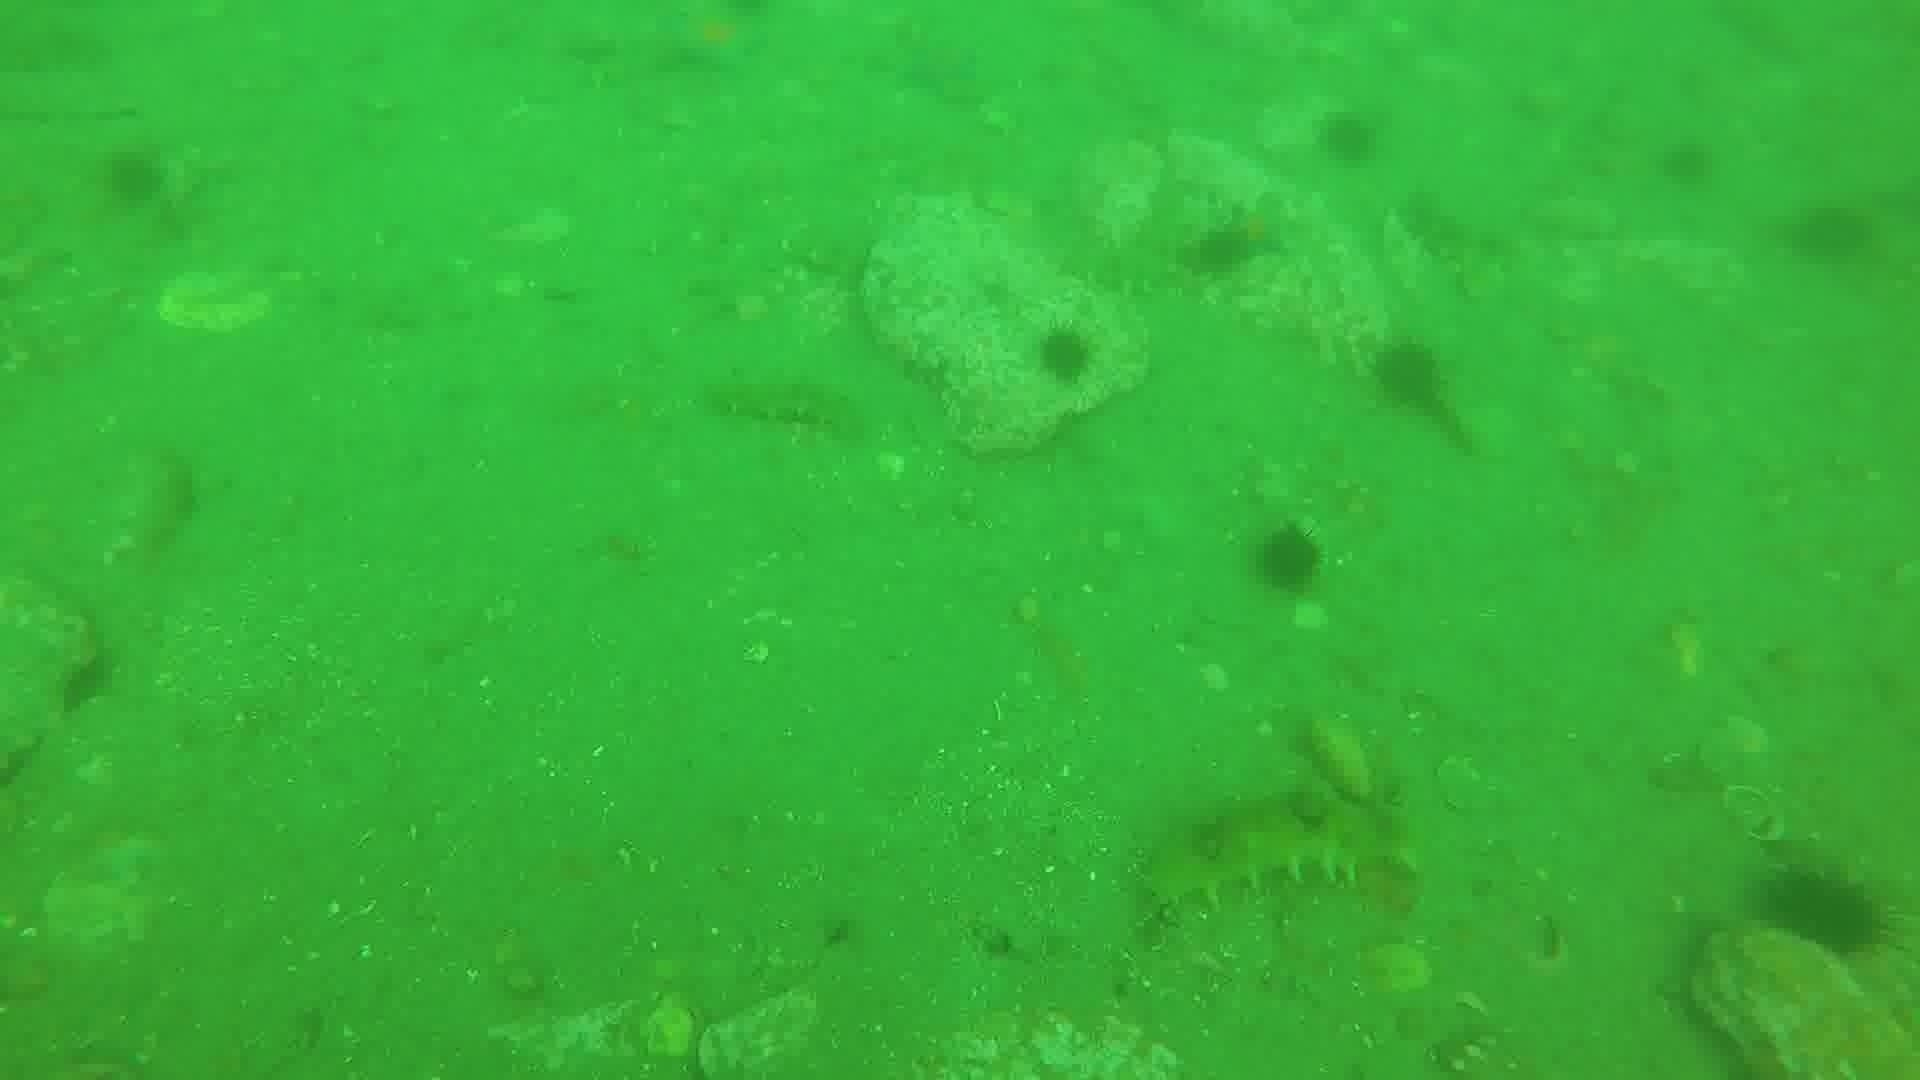echinus: (1753, 861, 1888, 963), (1365, 335, 1449, 414), (1785, 198, 1879, 269), (1247, 520, 1329, 597), (1180, 218, 1261, 282), (51, 647, 121, 719), (1029, 320, 1101, 389), (98, 144, 171, 211), (1313, 107, 1385, 170), (1654, 135, 1720, 193)
holothurian: (1139, 789, 1422, 916), (1389, 185, 1513, 294), (698, 363, 865, 440), (1047, 229, 1185, 301)
starfish: (1218, 179, 1323, 264), (654, 4, 771, 76)
